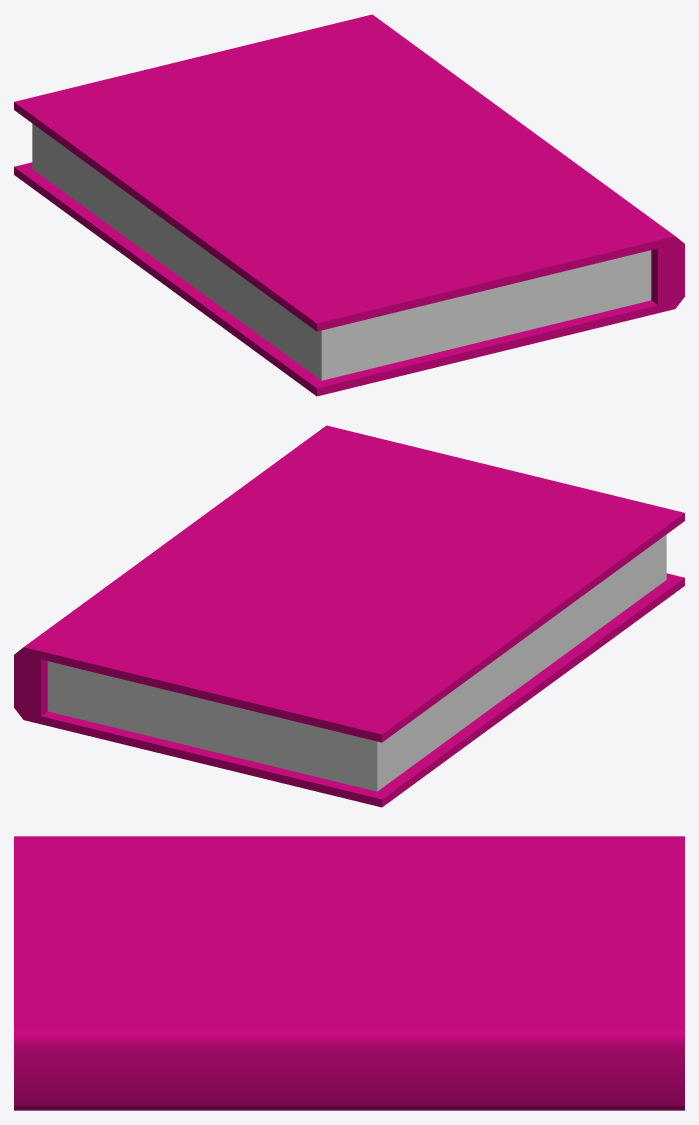
Rendered from Book_Purple.fbx.
The picture shows the model from 3 angles, top to bottom: view 1: azimuth 30°, elevation 25°; view 2: azimuth 150°, elevation 25°; view 3: azimuth 270°, elevation 25°; orthographic projection. The views are drawn at different scales.
Parts seen in each view (by area): view 1: Book_Purple; view 2: Book_Purple; view 3: Book_Purple.
Boxes of the visible parts, x1=… form: Book_Purple: x1=14, y1=14, x2=684, y2=396; Book_Purple: x1=14, y1=425, x2=684, y2=807; Book_Purple: x1=14, y1=836, x2=684, y2=1110.
Bounding box in the file's own units: 19.09 × 3.61 × 27.21.
